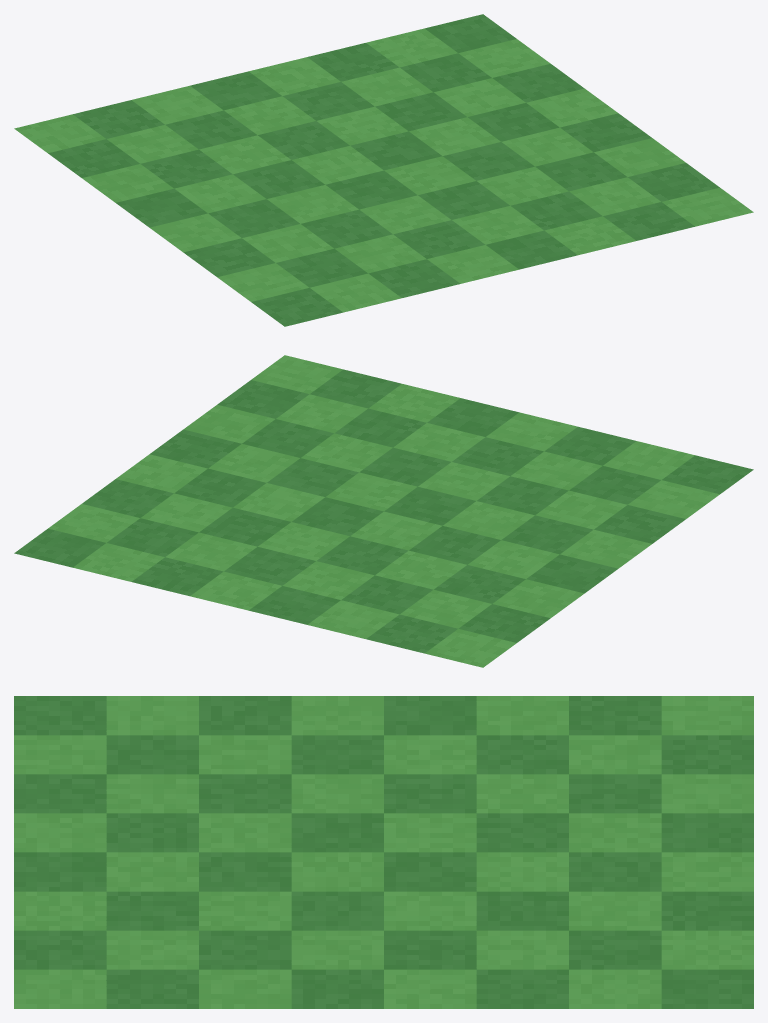
Rendered from grass_field.obj.
The picture shows the model from 3 angles, top to bottom: view 1: azimuth 30°, elevation 25°; view 2: azimuth 150°, elevation 25°; view 3: azimuth 270°, elevation 25°; orthographic projection. The views are drawn at different scales.
Size of the model in its own units: 2 by 0 by 2.
Materials: 1 (1 with a texture image).
